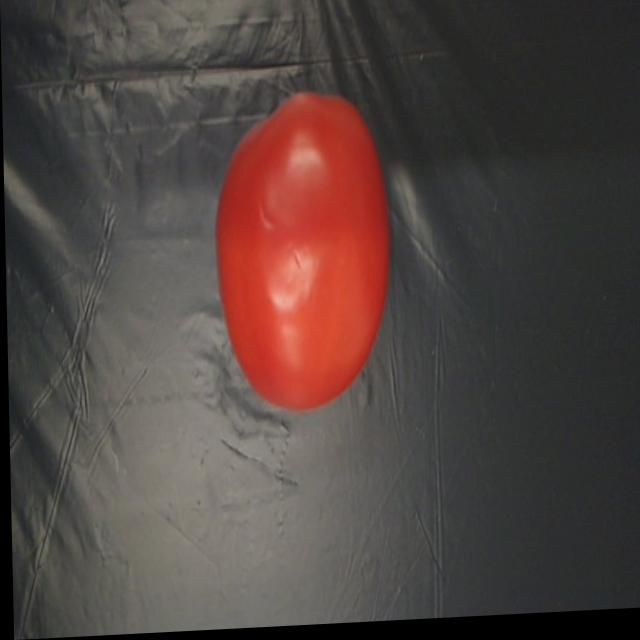kirmizi: (210, 74, 396, 432)
